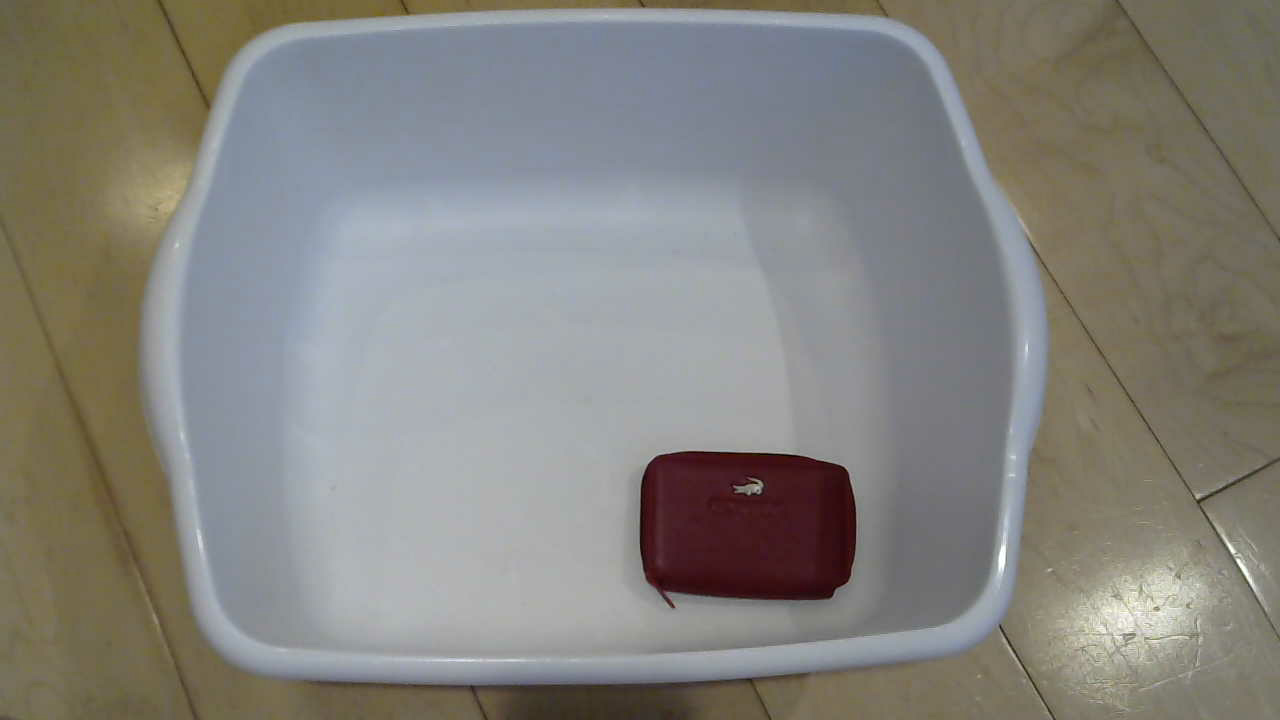wallet: (616, 430, 873, 622)
